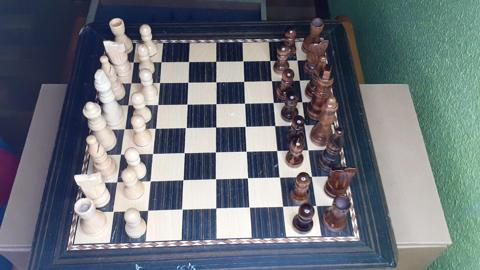xcorner: (156, 56, 165, 65), (128, 56, 137, 65), (295, 75, 304, 84), (211, 76, 220, 85), (154, 77, 163, 86), (125, 77, 134, 86), (298, 97, 307, 106), (211, 98, 220, 107), (182, 99, 191, 108), (152, 99, 161, 108), (122, 100, 131, 109), (272, 121, 281, 130), (181, 123, 190, 132), (150, 123, 159, 132), (119, 124, 128, 133), (274, 146, 283, 155), (243, 147, 252, 156), (115, 150, 124, 159), (309, 173, 318, 182), (277, 174, 286, 183), (246, 205, 255, 214), (212, 206, 221, 215), (177, 207, 186, 216), (142, 208, 151, 217), (107, 209, 116, 218), (266, 55, 274, 64), (239, 55, 247, 64), (211, 56, 220, 64), (184, 56, 193, 64), (268, 75, 276, 84), (240, 76, 248, 85), (183, 77, 192, 85), (270, 97, 278, 106), (241, 98, 249, 107), (302, 120, 310, 129), (242, 122, 251, 130), (212, 122, 220, 131), (305, 146, 314, 154), (212, 148, 220, 157), (180, 149, 189, 157), (245, 175, 253, 184), (145, 178, 154, 186), (111, 179, 120, 187), (313, 203, 322, 211), (280, 204, 289, 212), (293, 55, 301, 63), (148, 150, 156, 158), (212, 176, 220, 184), (179, 177, 187, 185)
